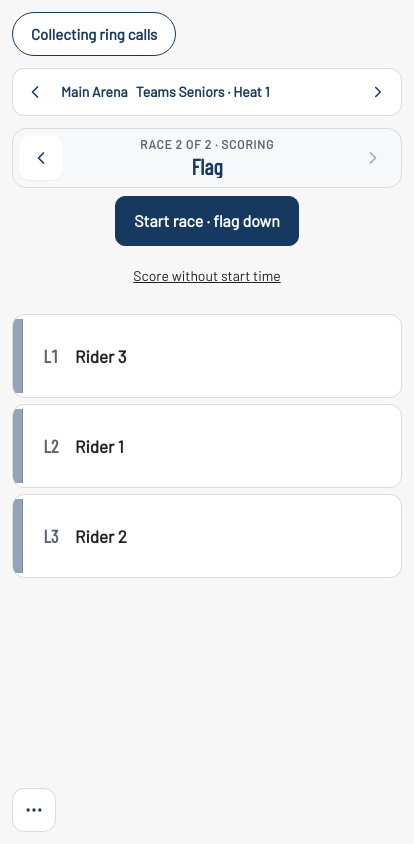
Test case: SessionPage › draft placings › prefers the draft to the saved results of a finished race
Click the button named "Previous race": coordinates (41, 158) [19,136,63,180]
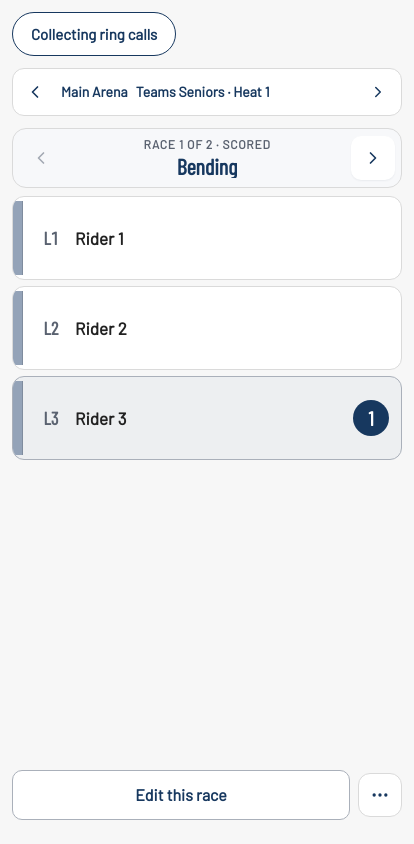
expect the text labelled "1" is shown: met, box [353,400,389,436]
